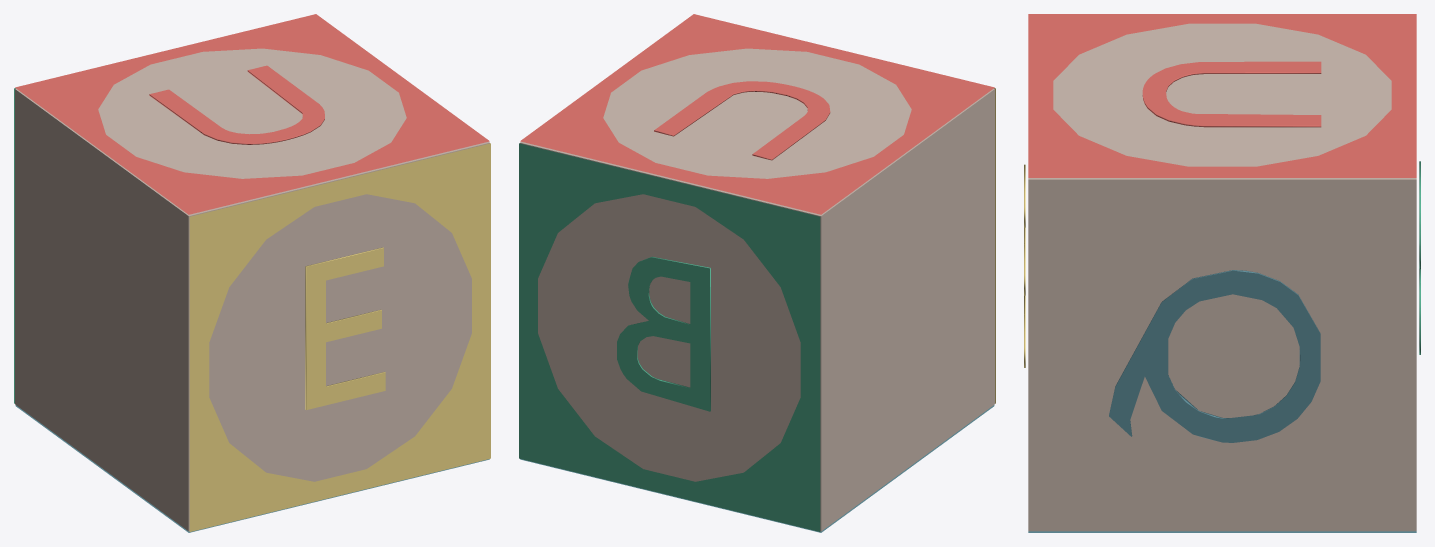
The picture shows the model from 3 angles, left to right: view 1: azimuth 30°, elevation 25°; view 2: azimuth 150°, elevation 25°; view 3: azimuth 270°, elevation 25°; orthographic projection. The views are drawn at different scales.
Parts seen in each view (by area): view 1: cube; view 2: cube; view 3: cube.
Part boxes in pixels (x1,y1,x2,y2): cube: (14, 14, 490, 532); cube: (519, 14, 995, 532); cube: (1024, 14, 1420, 532).
Bounding box in the file's own units: 0.0453 × 0.046 × 0.046.
